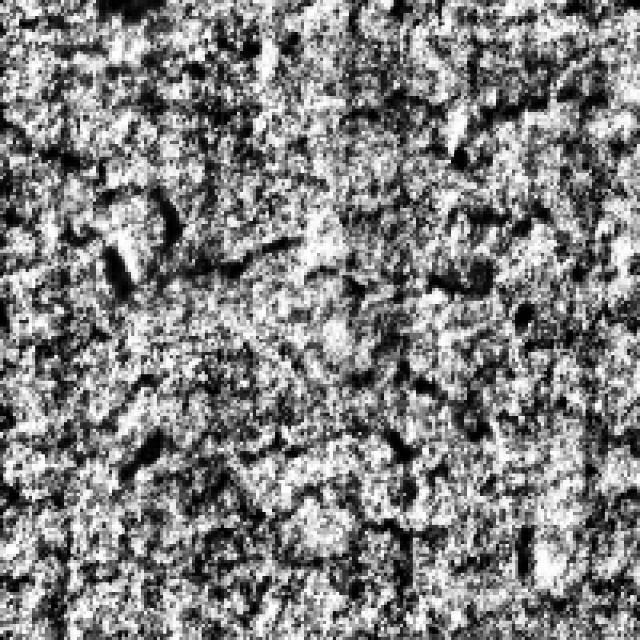Pitted_Surface: (284, 86, 554, 237), (282, 250, 496, 436), (0, 106, 189, 300)
